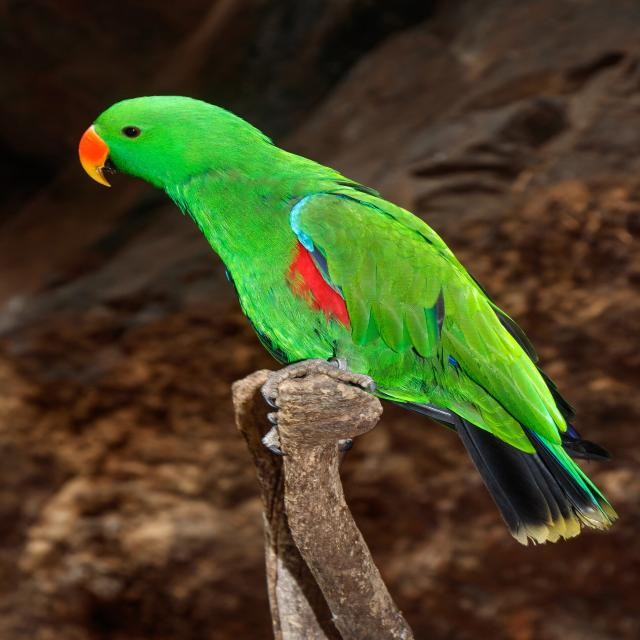Parrot: (78, 95, 602, 538)
